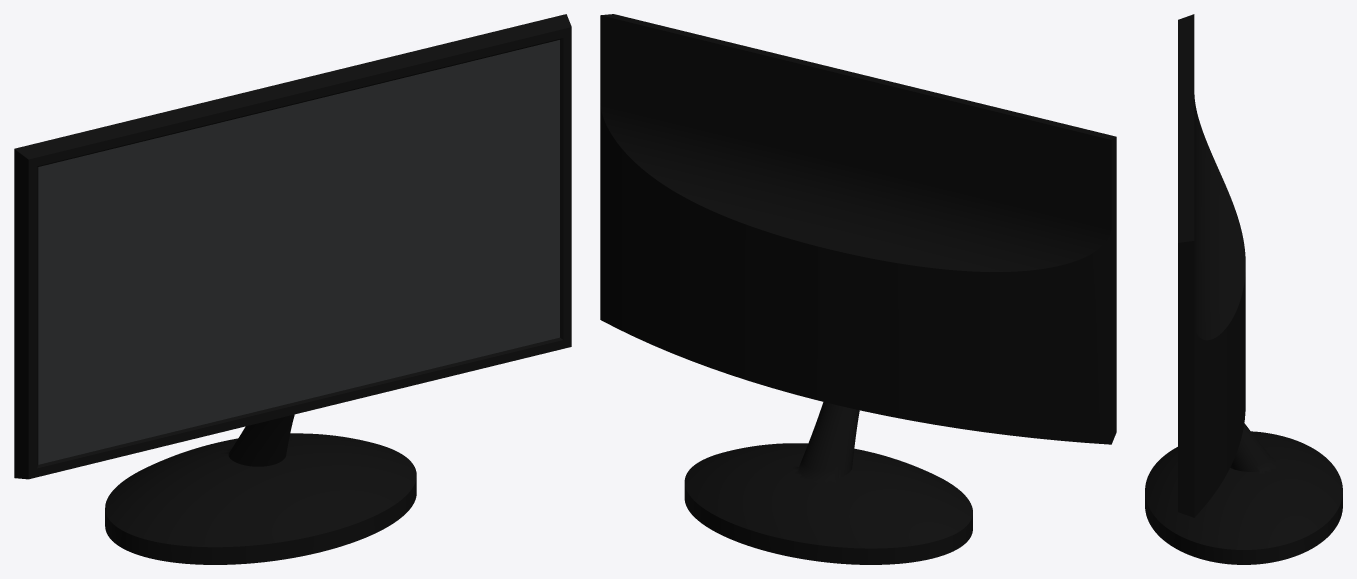
File: monitor_with_video.gltf
3 views of the same model, side by side, from view 1: azimuth 30°, elevation 25°; view 2: azimuth 150°, elevation 25°; view 3: azimuth 270°, elevation 25° (orthographic). The views are drawn at different scales.
Parts seen in each view (by area): view 1: nyan_cat, Object_0, Object_1; view 2: Object_0, Object_1; view 3: Object_0, Object_1.
Part boxes in pixels (<box>): nyan_cat: <box>38,40,559,464</box>; Object_0: <box>14,14,571,564</box>; Object_1: <box>105,414,416,547</box>; Object_0: <box>600,14,1116,564</box>; Object_1: <box>600,15,1111,548</box>; Object_0: <box>1145,14,1342,564</box>; Object_1: <box>1145,423,1342,549</box>.
Size of the model in its own units: 8.8 by 6.84 by 3.24.
Materials: 2 (1 with a texture image).
